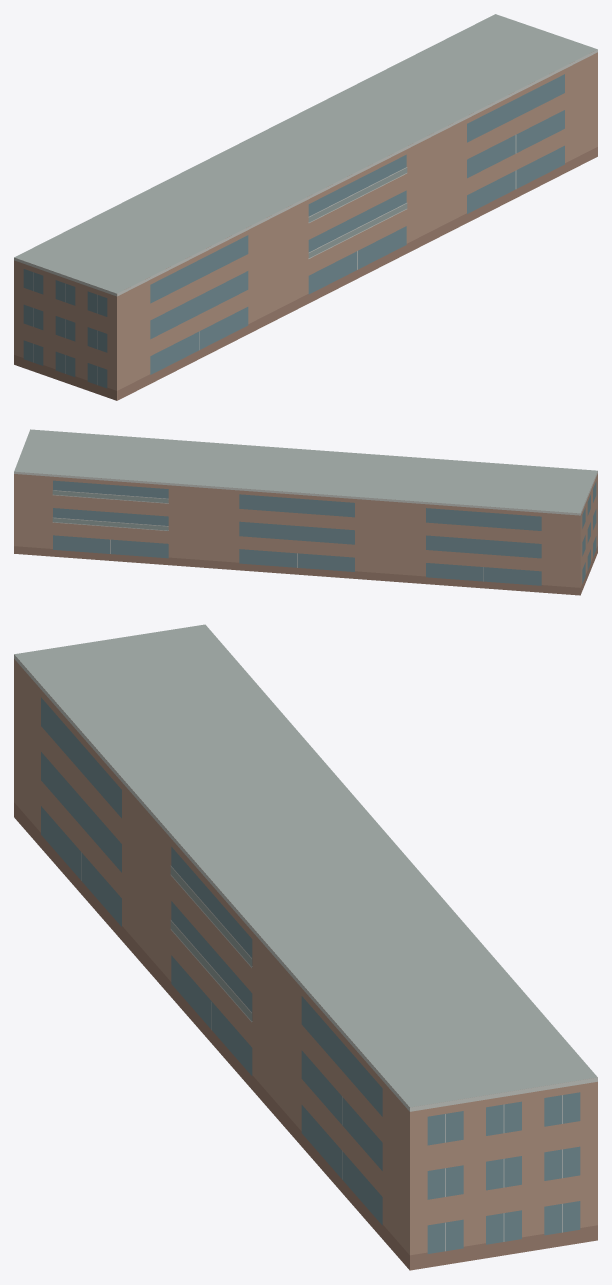
The model's file is survey-upis-32526753.glb.
3 renders of one model, top to bottom at view 1: azimuth 30°, elevation 25°; view 2: azimuth 150°, elevation 25°; view 3: azimuth 270°, elevation 25°, orthographic. The views are drawn at different scales.
Parts seen in each view (by area): view 1: survey-upis-32526753.tmp; view 2: survey-upis-32526753.tmp; view 3: survey-upis-32526753.tmp.
Part boxes in pixels (<box>): survey-upis-32526753.tmp: <box>14,14,597,400</box>; survey-upis-32526753.tmp: <box>14,429,597,595</box>; survey-upis-32526753.tmp: <box>14,624,597,1270</box>.
Bounding box in the file's own units: 58.17 × 9.15 × 29.71.
